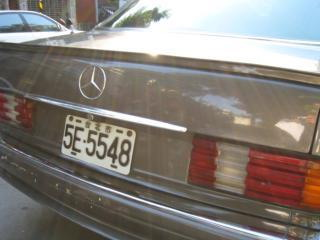plate: (58, 111, 138, 177)
